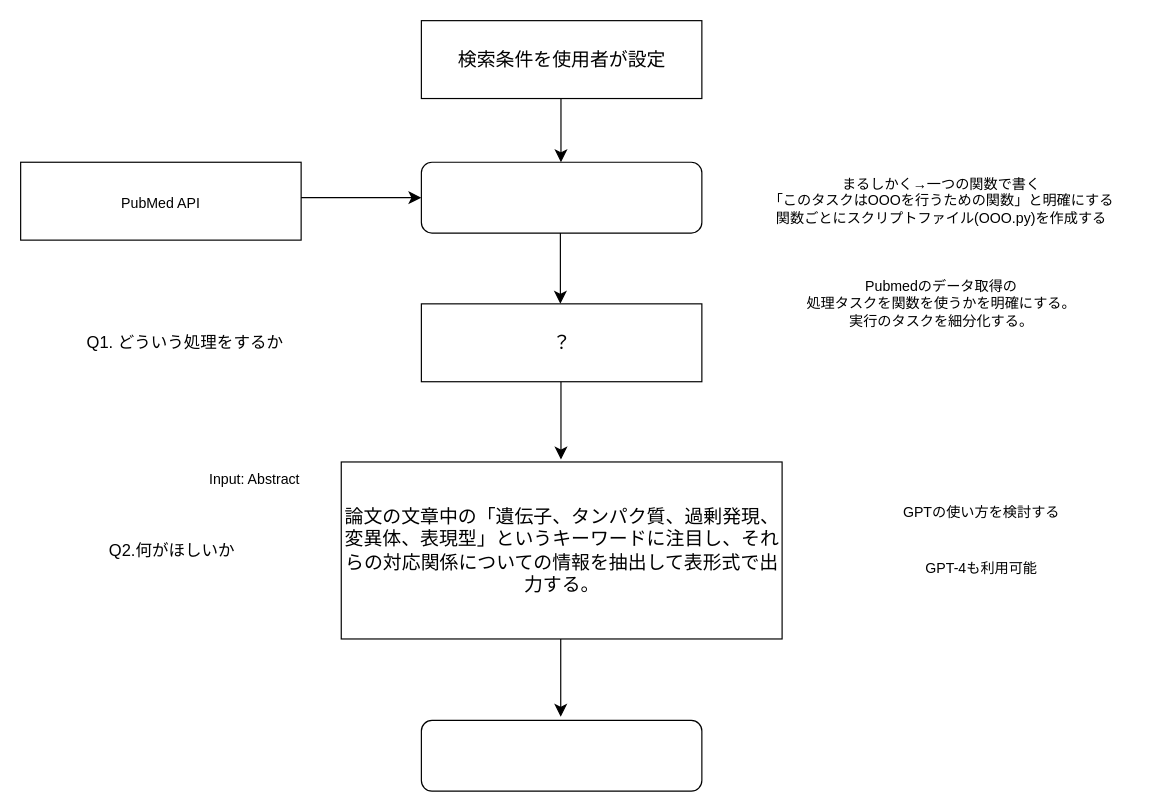
The diagram is 1156 pixels wide and 812 high, and some of its shapes have lost their labels. The shapes that lost their labels are listed below. From the top down, each one's centre as x and y in pixels, then its label:
At point (561, 197): "Pubmedから データを取得する".
At point (561, 755): "Googleスプレッドシートに書き出す".
